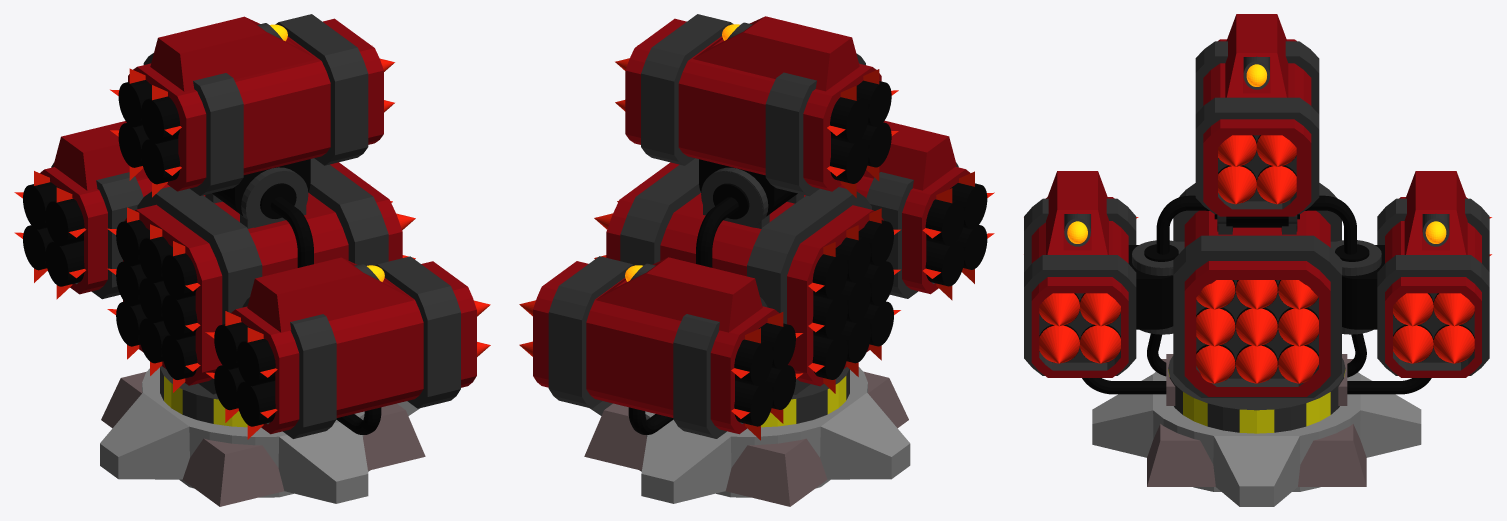
The model's file is WeaponRocketLauncherM3.fbx.
3 views of the same model, side by side, from view 1: azimuth 30°, elevation 25°; view 2: azimuth 150°, elevation 25°; view 3: azimuth 270°, elevation 25° (orthographic). The views are drawn at different scales.
Parts seen in each view (by area): view 1: Cylinder.001, Cylinder; view 2: Cylinder.001, Cylinder; view 3: Cylinder.001, Cylinder.
Part boxes in pixels (bbox=[...]): Cylinder.001: bbox=[14, 14, 490, 439]; Cylinder: bbox=[100, 367, 425, 506]; Cylinder.001: bbox=[519, 14, 994, 440]; Cylinder: bbox=[584, 367, 910, 506]; Cylinder.001: bbox=[1024, 14, 1491, 433]; Cylinder: bbox=[1092, 359, 1421, 506].
Bounding box in the file's own units: 738 × 969 × 1053.
